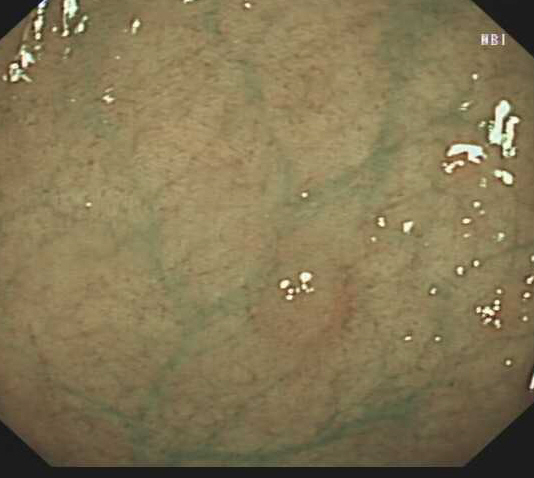adenoma: (243, 234, 351, 348)
